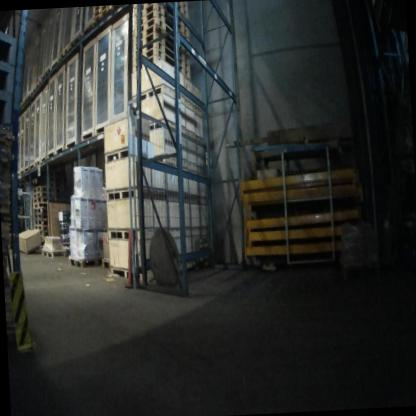pallet: (69, 254, 105, 269), (91, 5, 109, 24), (67, 33, 81, 50), (91, 5, 107, 19), (32, 190, 54, 199), (32, 184, 53, 193), (58, 44, 69, 60), (33, 218, 48, 227), (33, 200, 47, 209), (101, 257, 111, 269), (33, 195, 47, 203), (33, 206, 47, 214), (33, 223, 49, 230), (33, 212, 47, 219), (40, 230, 48, 241), (92, 5, 102, 13), (34, 78, 41, 88), (36, 245, 44, 251), (30, 87, 35, 96), (18, 218, 25, 224), (19, 228, 25, 234), (18, 210, 24, 215), (18, 206, 24, 211), (19, 101, 24, 107), (18, 224, 25, 228), (40, 241, 44, 246)
